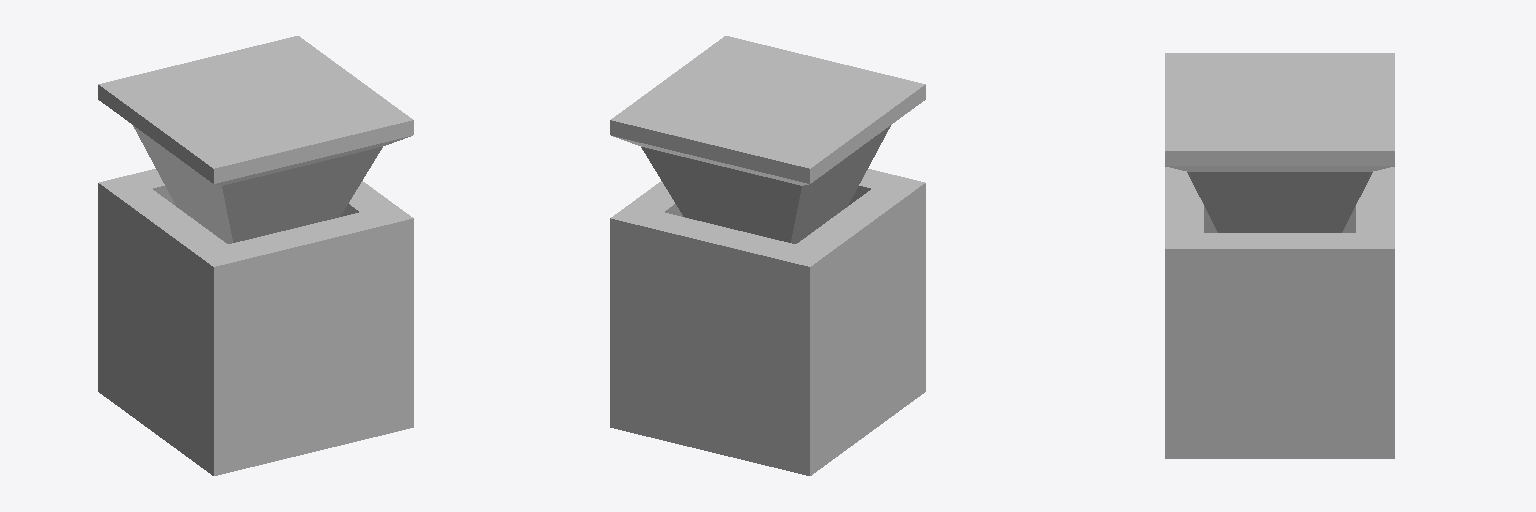
The model's file is AnimatedBox_000159.obj.
3 views of the same model, side by side, from view 1: azimuth 30°, elevation 25°; view 2: azimuth 150°, elevation 25°; view 3: azimuth 270°, elevation 25° (orthographic).
Visible parts, largest first — view 1: Cube, Cube.001; view 2: Cube, Cube.001; view 3: Cube, Cube.001.
Boxes of the visible parts, <box> form: Cube: <box>98,169,413,475</box>; Cube.001: <box>98,36,413,243</box>; Cube: <box>610,169,925,475</box>; Cube.001: <box>610,36,925,243</box>; Cube: <box>1165,167,1394,458</box>; Cube.001: <box>1165,53,1394,232</box>.
Size of the model in its own units: 2 by 2.94 by 2.